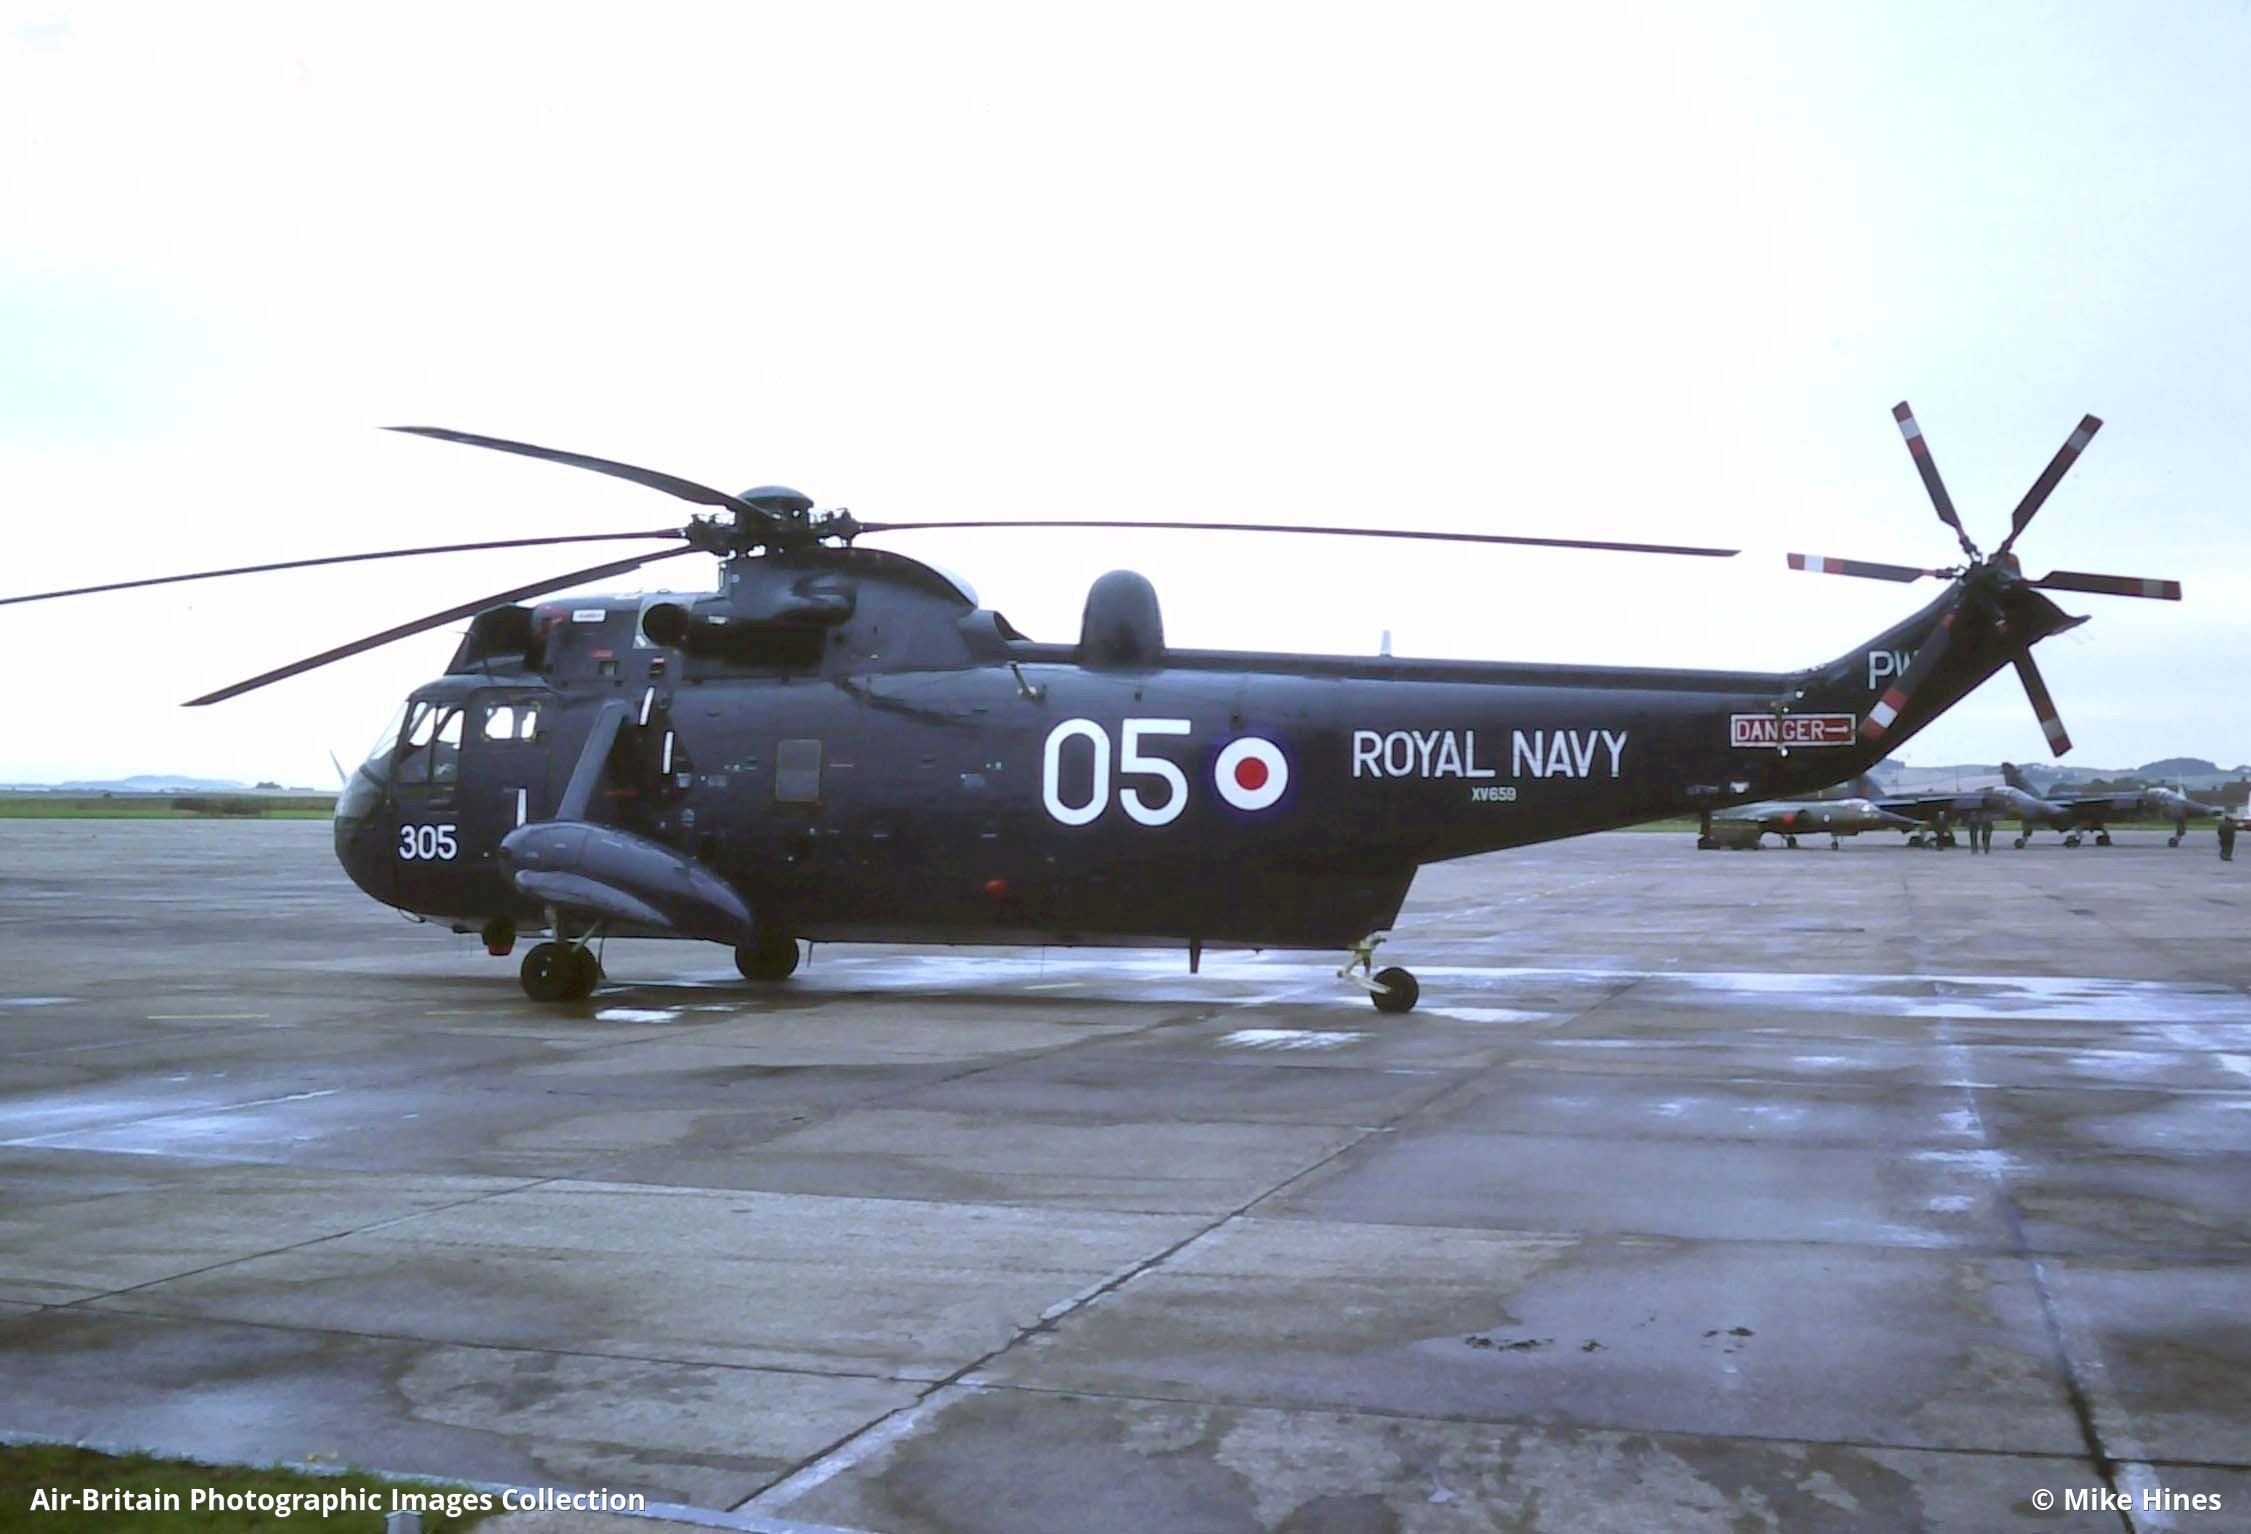Sea King: (231, 397, 2219, 1026)
